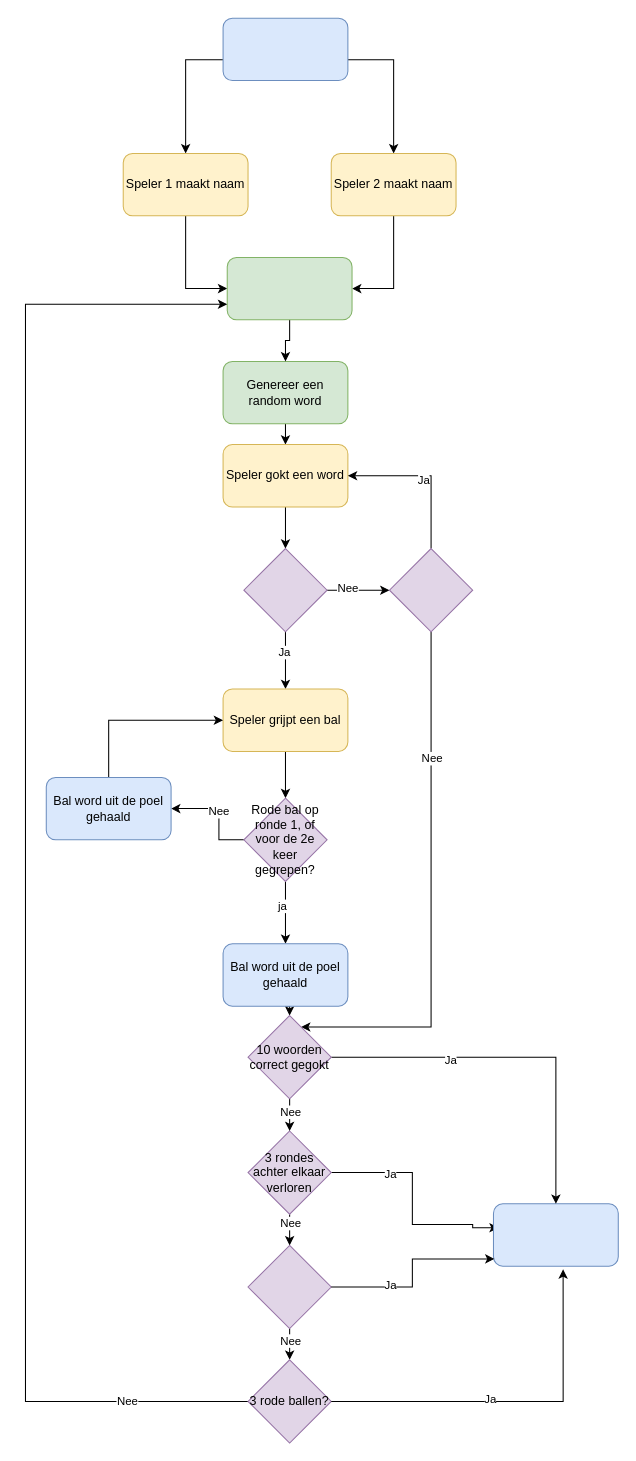
This 636x1461 diagram has some shape labels left out. Each missing label, with the box of its shape:
3 groene ballen?: (247, 1244, 331, 1329)
Actieve team word geselecteerd (ronde 1 is speler 1): (226, 256, 352, 320)
Correct?: (243, 548, 327, 632)
Heeft de speler nog een gok?: (388, 548, 473, 632)
Spel eindigt win/verlies: (492, 1203, 618, 1266)
Start game: (222, 17, 348, 81)
